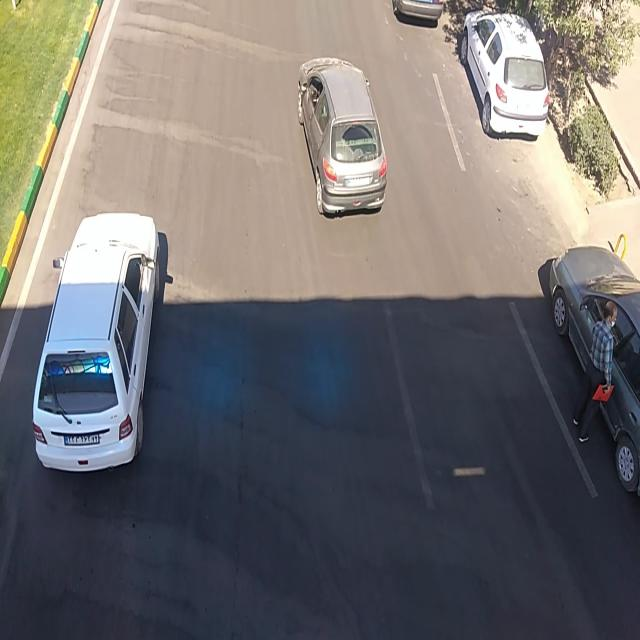car: (35, 214, 162, 475), (549, 240, 639, 500), (293, 59, 387, 220), (459, 9, 548, 146)
